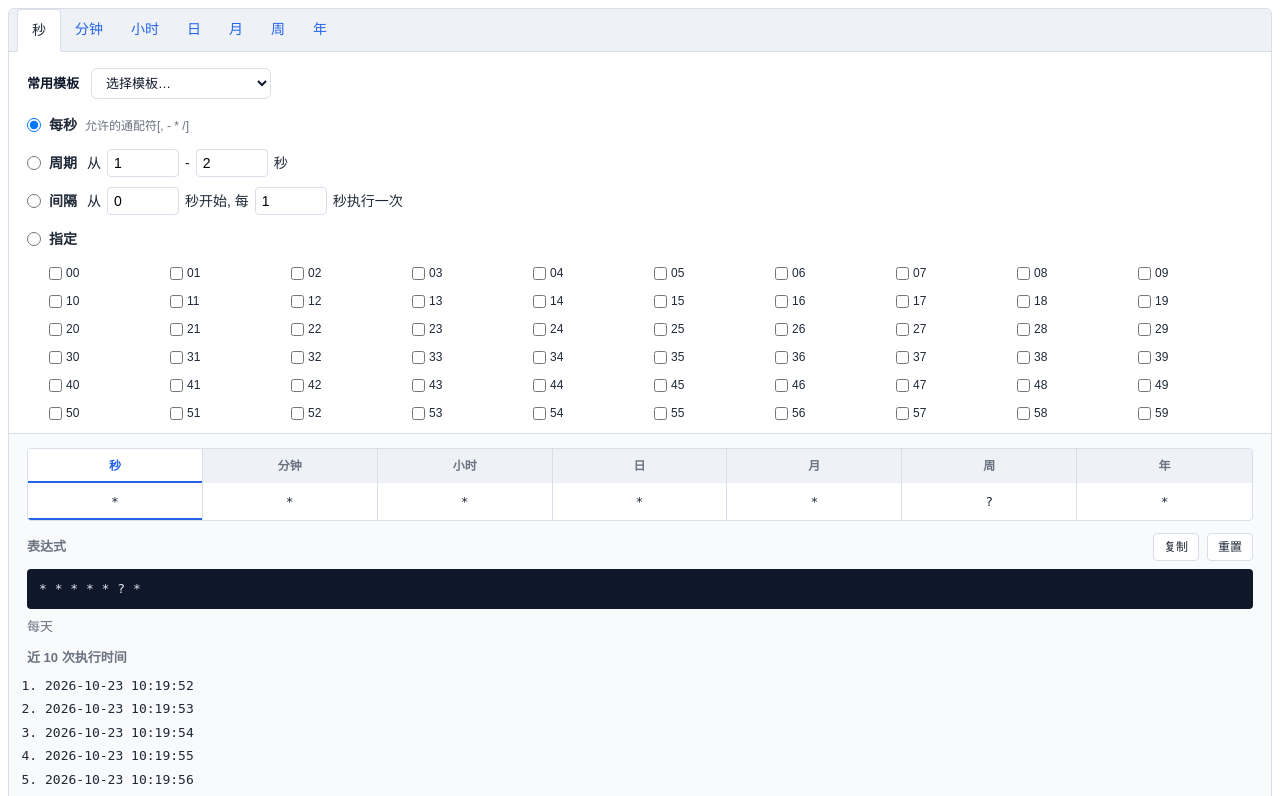
CronZen › 点击 Tab 应切换配置区标题
Step 1. Click the 3rd button with class "cron-zen__tab" → x=145, y=30, box left=117, top=9, right=173, bottom=52
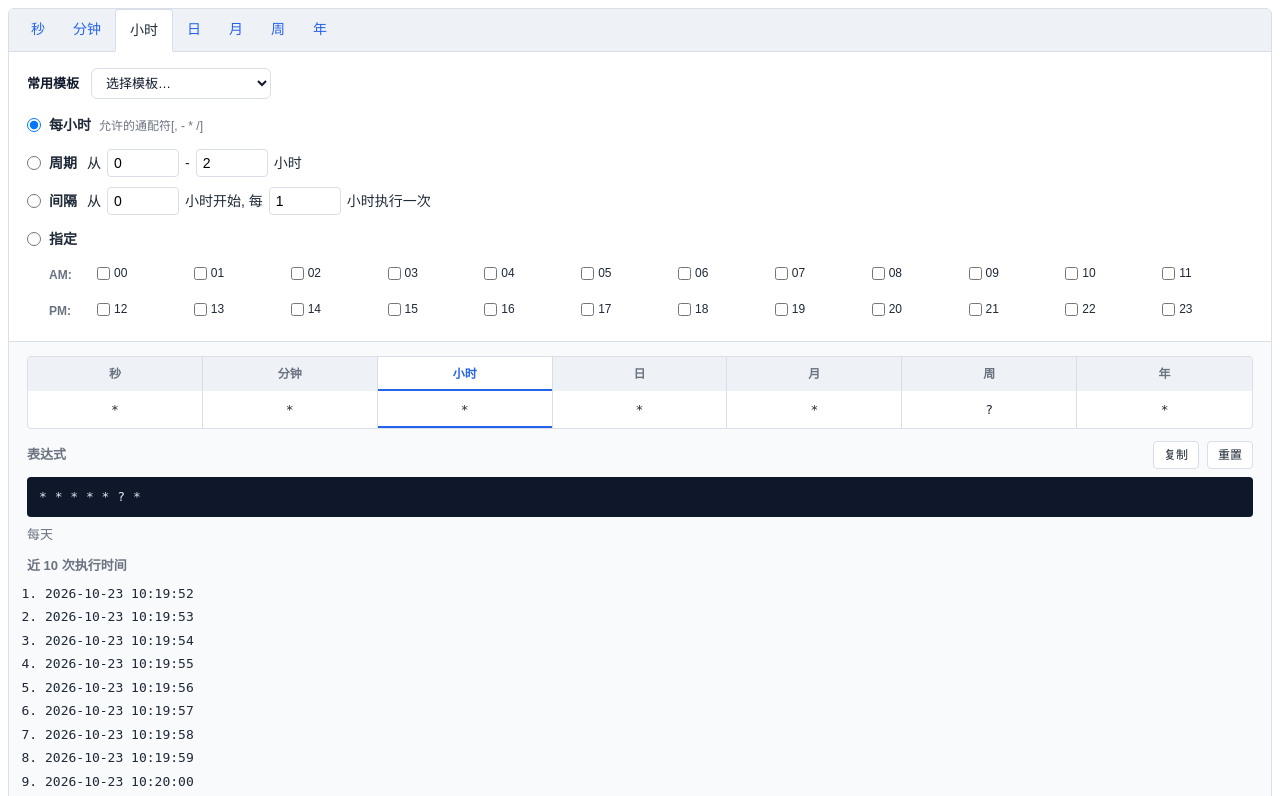
Now the text "每小时" is shown, box left=49, top=116, right=91, bottom=132
